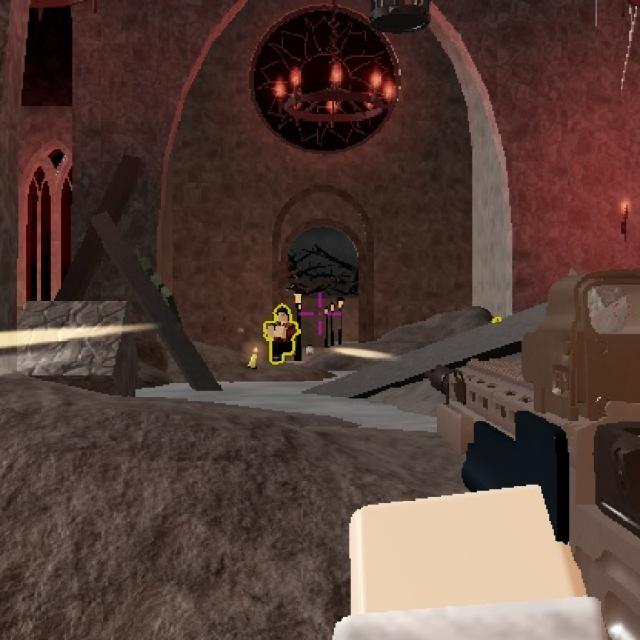player: (256, 302, 304, 363)
